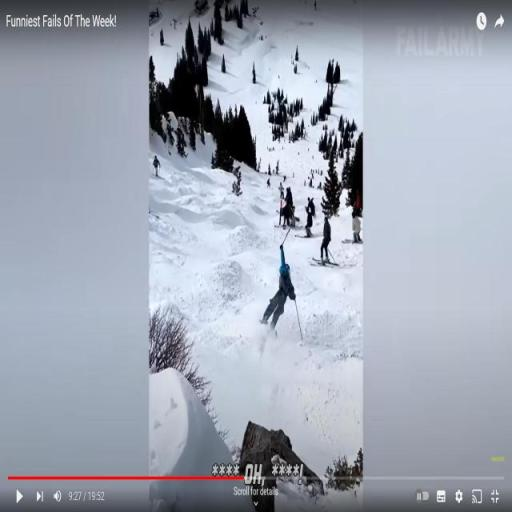Fall: (257, 242, 297, 334)
